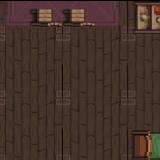Hide: (128, 129, 160, 160)
Obstacle: (63, 0, 96, 33), (30, 0, 63, 33), (127, 0, 160, 33)
